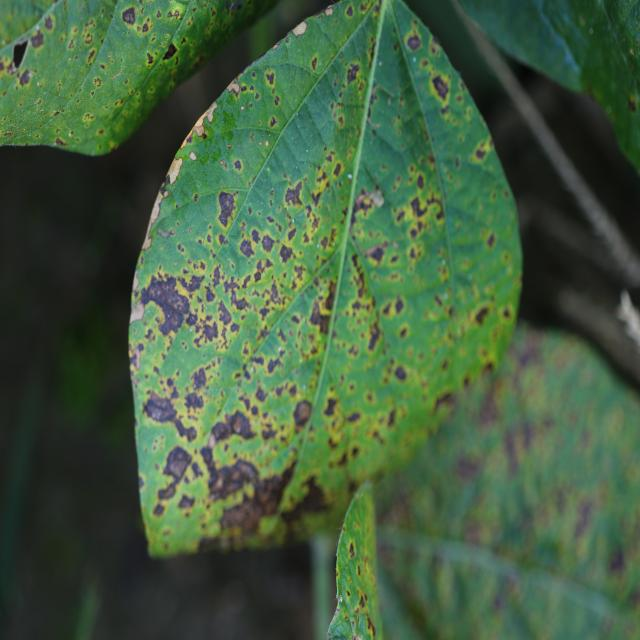Bacterial_Blight: (483, 400, 553, 483), (143, 267, 192, 335), (203, 455, 262, 507), (241, 267, 290, 325), (144, 390, 198, 441), (284, 474, 331, 522), (208, 409, 257, 446), (309, 294, 332, 334), (454, 451, 483, 482), (351, 188, 381, 217), (217, 190, 236, 227), (292, 399, 313, 429), (364, 243, 389, 266), (284, 181, 303, 208), (608, 546, 626, 573), (431, 74, 449, 100), (216, 301, 233, 327), (313, 169, 330, 195), (471, 139, 490, 162), (190, 367, 208, 391), (367, 325, 383, 352), (409, 195, 427, 219), (129, 343, 144, 371), (149, 198, 162, 228), (129, 300, 145, 324), (434, 392, 453, 412), (474, 305, 490, 325), (267, 355, 283, 375), (346, 62, 360, 84), (177, 493, 195, 510), (278, 243, 293, 263), (239, 238, 254, 258), (121, 7, 136, 26), (31, 30, 45, 50), (291, 21, 308, 37), (162, 42, 177, 60), (261, 234, 275, 253), (18, 68, 32, 87), (406, 34, 421, 51), (161, 175, 173, 195), (393, 364, 407, 381), (209, 146, 222, 164), (227, 80, 241, 96), (365, 615, 375, 636), (152, 502, 166, 517), (194, 123, 207, 139), (82, 29, 94, 46), (627, 94, 638, 112), (225, 0, 238, 13), (44, 15, 54, 31), (132, 273, 140, 293), (87, 49, 96, 66), (265, 71, 275, 86), (54, 137, 68, 147), (8, 61, 18, 75), (83, 112, 94, 124), (348, 540, 355, 558), (93, 76, 103, 88), (2, 129, 15, 138), (233, 159, 242, 171), (311, 56, 318, 71), (146, 52, 154, 65), (345, 5, 353, 18), (189, 151, 198, 162), (269, 116, 277, 128), (142, 22, 149, 33), (325, 7, 333, 16), (52, 109, 60, 117), (629, 48, 636, 57), (274, 96, 280, 106), (629, 62, 635, 70), (338, 595, 343, 604), (264, 140, 269, 147), (351, 619, 355, 627), (589, 28, 594, 34)
Soybean: (129, 0, 522, 556)
